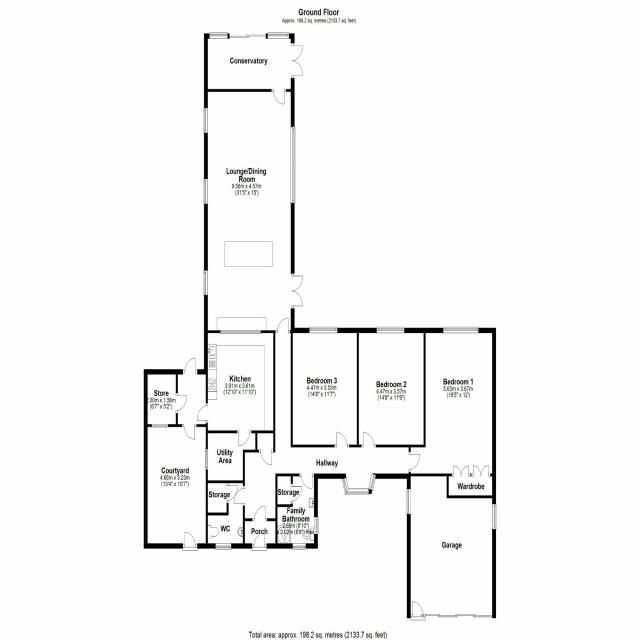DOOR: (182, 531, 198, 551), (251, 532, 267, 551), (182, 357, 198, 375), (237, 430, 252, 447), (233, 485, 245, 506), (197, 402, 208, 424), (334, 432, 350, 447), (299, 473, 314, 489), (271, 89, 286, 105), (275, 317, 290, 333), (182, 424, 197, 440), (409, 452, 420, 473), (361, 432, 376, 447), (252, 506, 267, 521)
DOUBLE DOOR: (291, 42, 303, 79), (291, 273, 303, 308)
ROOM: (203, 89, 303, 334), (408, 326, 496, 498), (196, 330, 275, 446), (357, 327, 426, 448), (143, 424, 208, 551), (291, 327, 359, 448), (203, 32, 303, 105)
SLIDING DOOR: (229, 33, 266, 39)
WINDOW: (341, 473, 376, 495), (290, 126, 296, 204), (443, 326, 479, 334), (376, 326, 405, 334), (309, 326, 338, 333), (220, 330, 261, 334), (267, 32, 290, 39), (203, 178, 208, 205), (209, 32, 228, 39), (203, 270, 208, 296), (203, 108, 208, 133), (215, 543, 232, 550), (292, 543, 306, 550), (314, 517, 319, 534), (151, 424, 168, 428), (205, 448, 208, 470)
